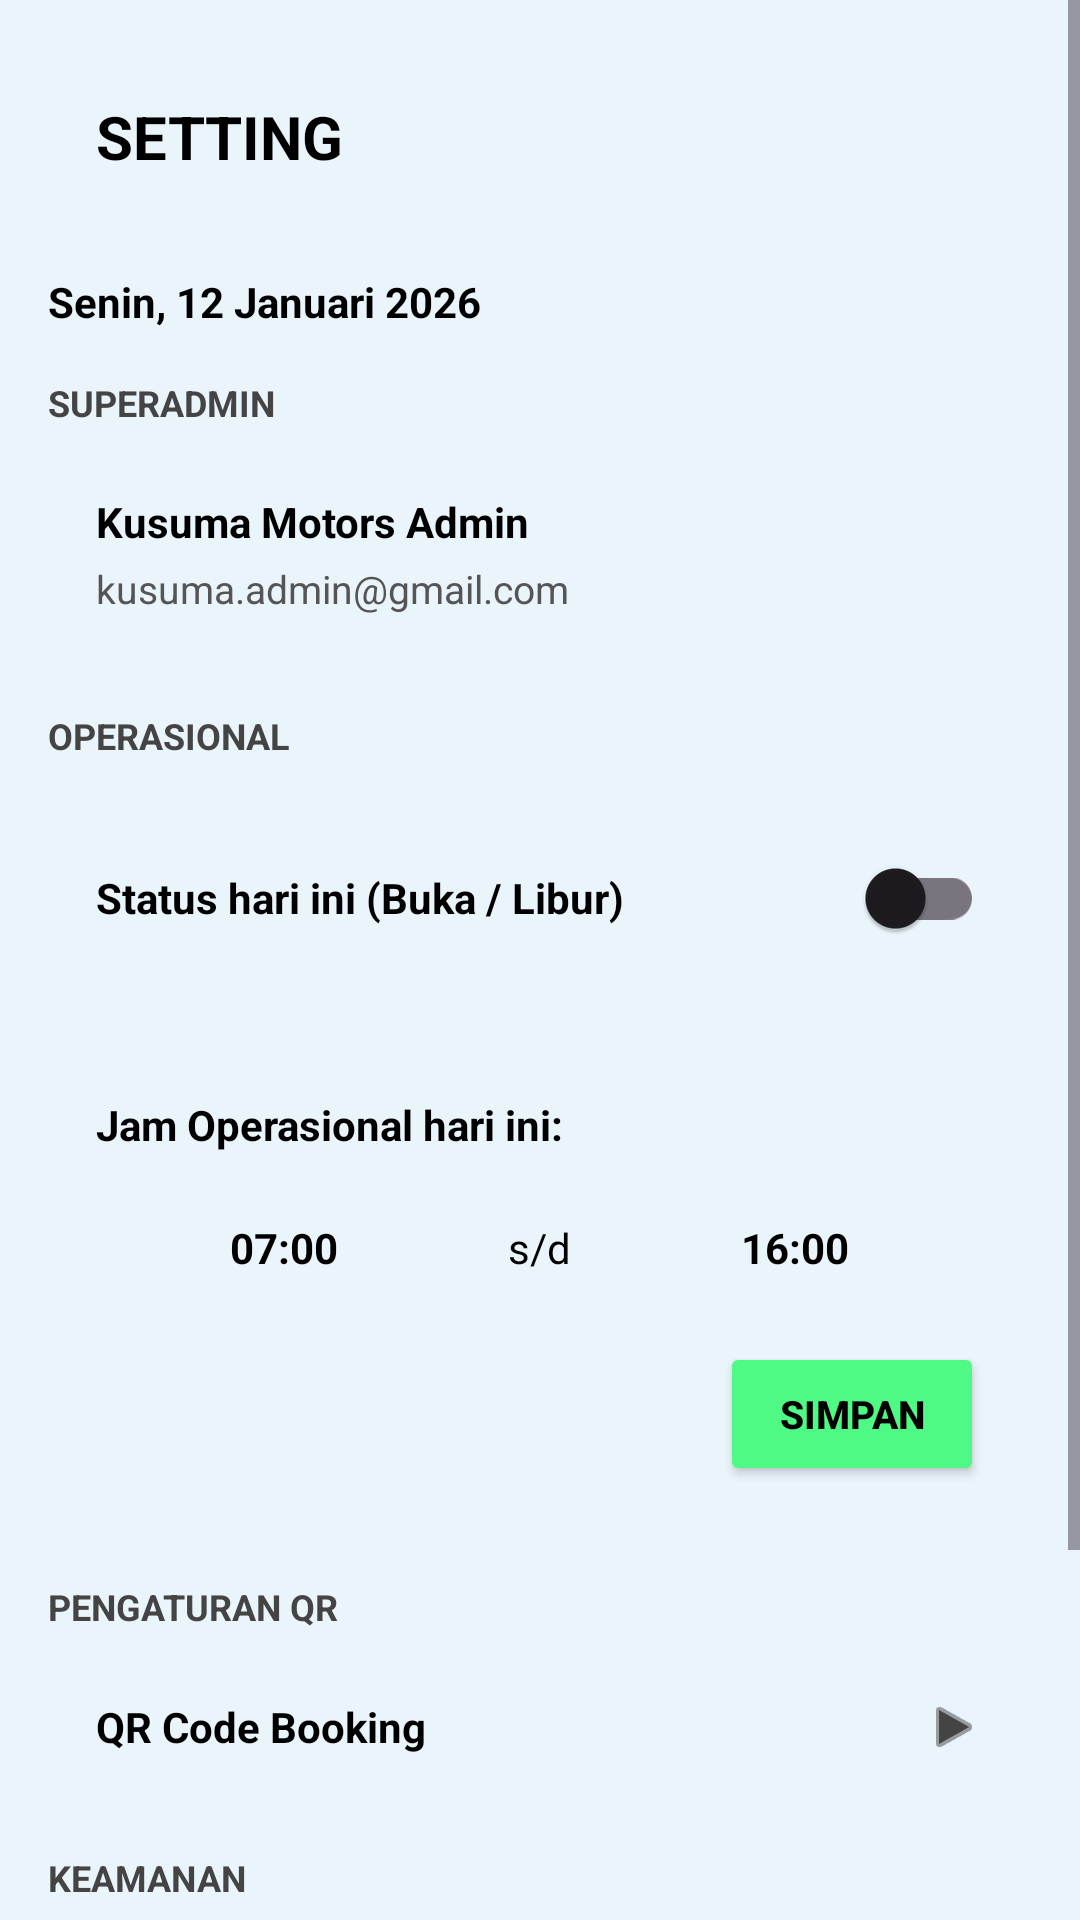

Screen size 1080 x 1920. Icon name, then its box in pixels as (x1, y1, x2, y2):
play: (936, 1707, 972, 1747)
